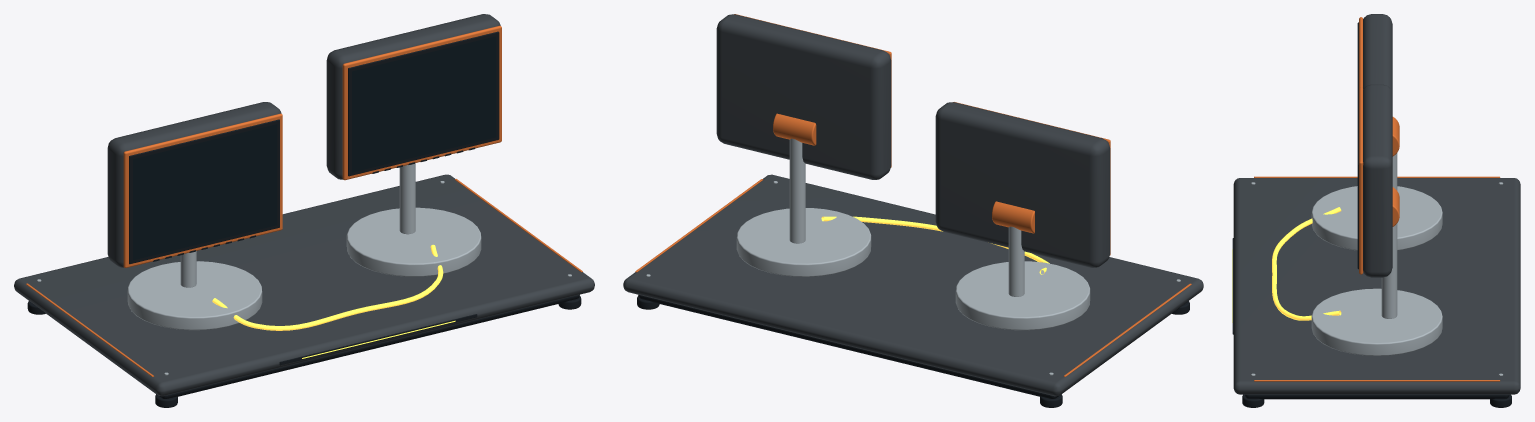
Rendered from timeline.glb.
The picture shows the model from 3 angles, left to right: view 1: azimuth 30°, elevation 25°; view 2: azimuth 150°, elevation 25°; view 3: azimuth 270°, elevation 25°; orthographic projection. The views are drawn at different scales.
Visible parts, largest first — view 1: Static / Graphite ceramic.004, Static / Satin titanium.004, SCREEN_experience_0, SCREEN_experience_1, Static / Recessed black rubber.004, Static / Burnt orange enamel.004, Static / Amber instrument light.004; view 2: Static / Graphite ceramic.004, Static / Satin titanium.004, Static / Burnt orange enamel.004, Static / Recessed black rubber.004, Static / Amber instrument light.004; view 3: Static / Graphite ceramic.004, Static / Satin titanium.004, Static / Recessed black rubber.004, Static / Burnt orange enamel.004, Static / Amber instrument light.004.
Part boxes in pixels (box(x1,y1,x2,y2)): Static / Graphite ceramic.004: box(14, 14, 594, 396); Static / Satin titanium.004: box(37, 163, 571, 375); SCREEN_experience_0: box(133, 124, 277, 260); SCREEN_experience_1: box(352, 36, 496, 172); Static / Recessed black rubber.004: box(27, 31, 581, 407); Static / Burnt orange enamel.004: box(26, 25, 582, 376); Static / Amber instrument light.004: box(212, 244, 455, 358); Static / Graphite ceramic.004: box(623, 14, 1203, 396); Static / Satin titanium.004: box(646, 138, 1180, 375); Static / Burnt orange enamel.004: box(635, 14, 1191, 376); Static / Recessed black rubber.004: box(637, 295, 1189, 407); Static / Amber instrument light.004: box(821, 216, 1049, 274); Static / Graphite ceramic.004: box(1233, 14, 1520, 394); Static / Satin titanium.004: box(1251, 153, 1503, 375); Static / Recessed black rubber.004: box(1232, 22, 1511, 407); Static / Burnt orange enamel.004: box(1254, 17, 1500, 381); Static / Amber instrument light.004: box(1232, 207, 1341, 322).
Bounding box in the file's own units: 12 × 6.44 × 7.03.
